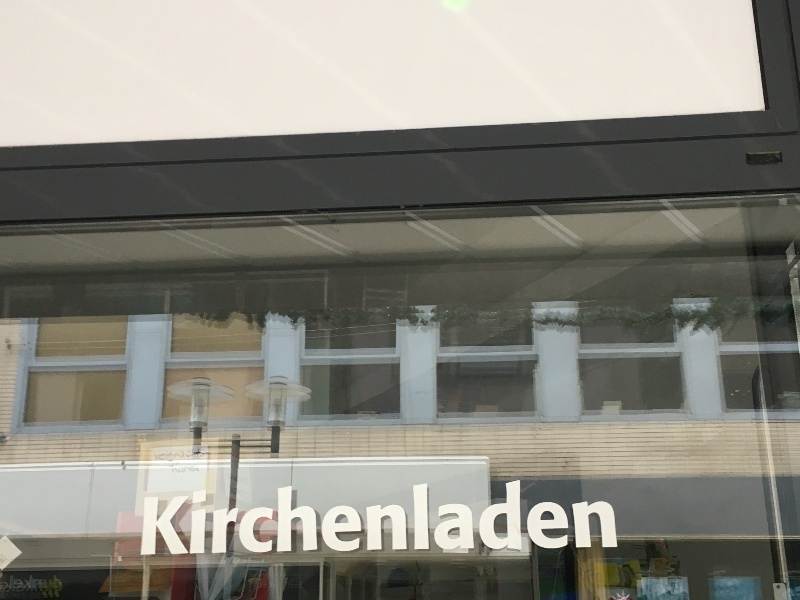text: (161, 477, 176, 559), (177, 477, 192, 559), (193, 477, 208, 559), (209, 477, 224, 559), (225, 477, 240, 559), (241, 477, 256, 559), (257, 477, 272, 559), (273, 477, 288, 559), (289, 477, 304, 559), (305, 477, 320, 559), (321, 477, 336, 559), (337, 477, 352, 559), (353, 477, 368, 559), (369, 477, 384, 559), (385, 477, 400, 559), (401, 477, 416, 559), (417, 477, 432, 559), (433, 477, 448, 559), (449, 477, 464, 559), (465, 477, 480, 559), (481, 477, 496, 559), (497, 477, 512, 559), (513, 477, 528, 559), (529, 477, 544, 559), (545, 477, 560, 559), (561, 477, 576, 559), (577, 477, 592, 559), (593, 477, 608, 559), (147, 477, 160, 559), (609, 477, 618, 559), (1, 575, 16, 593), (17, 575, 32, 593), (33, 575, 48, 593), (49, 575, 63, 593), (161, 448, 176, 461), (177, 448, 192, 461), (193, 448, 206, 461), (177, 464, 192, 474), (154, 448, 160, 461), (193, 464, 200, 474), (170, 464, 176, 474)
